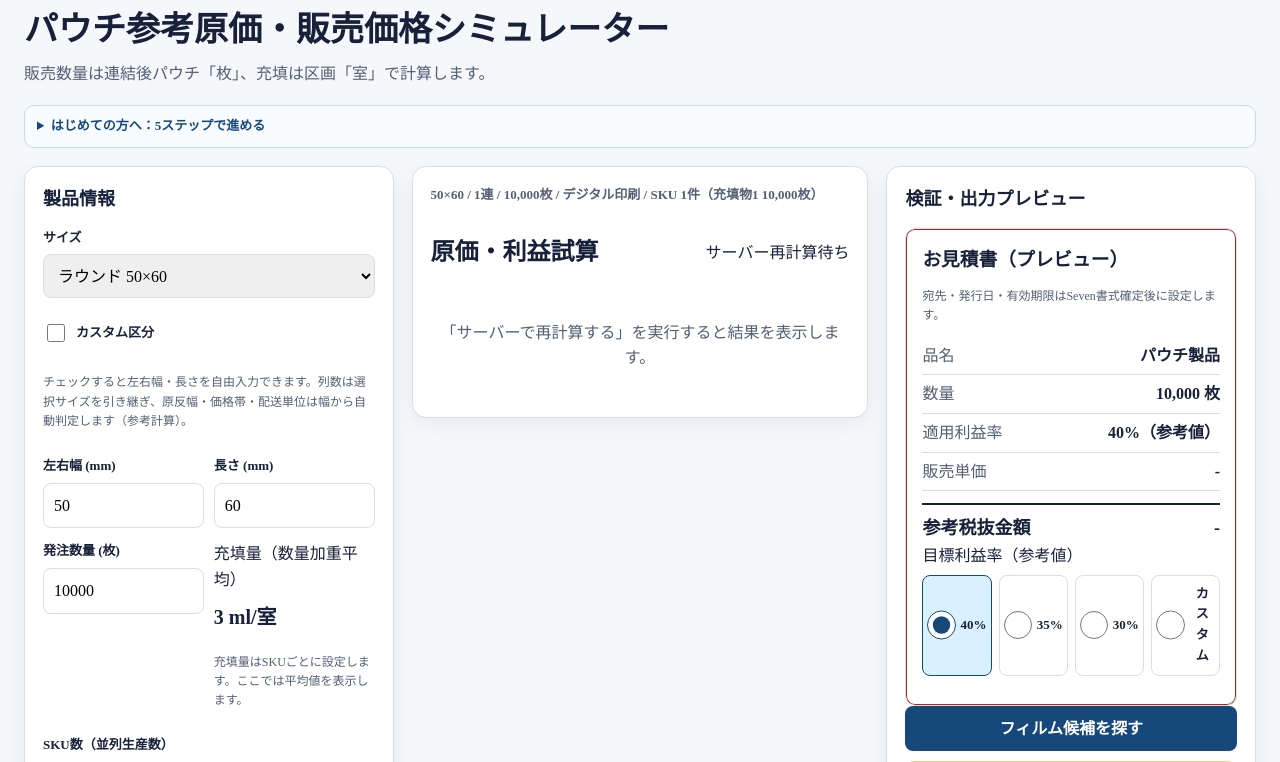
quotation UI › supports a custom target margin between the 40% and 50% defaults
Expected: the radio button named "利益率 40%" is checked, [927,603,956,647]
Click the radio button with aria-label "利益率 カスタム".
click(1170, 625)  # box [1156,603,1185,647]
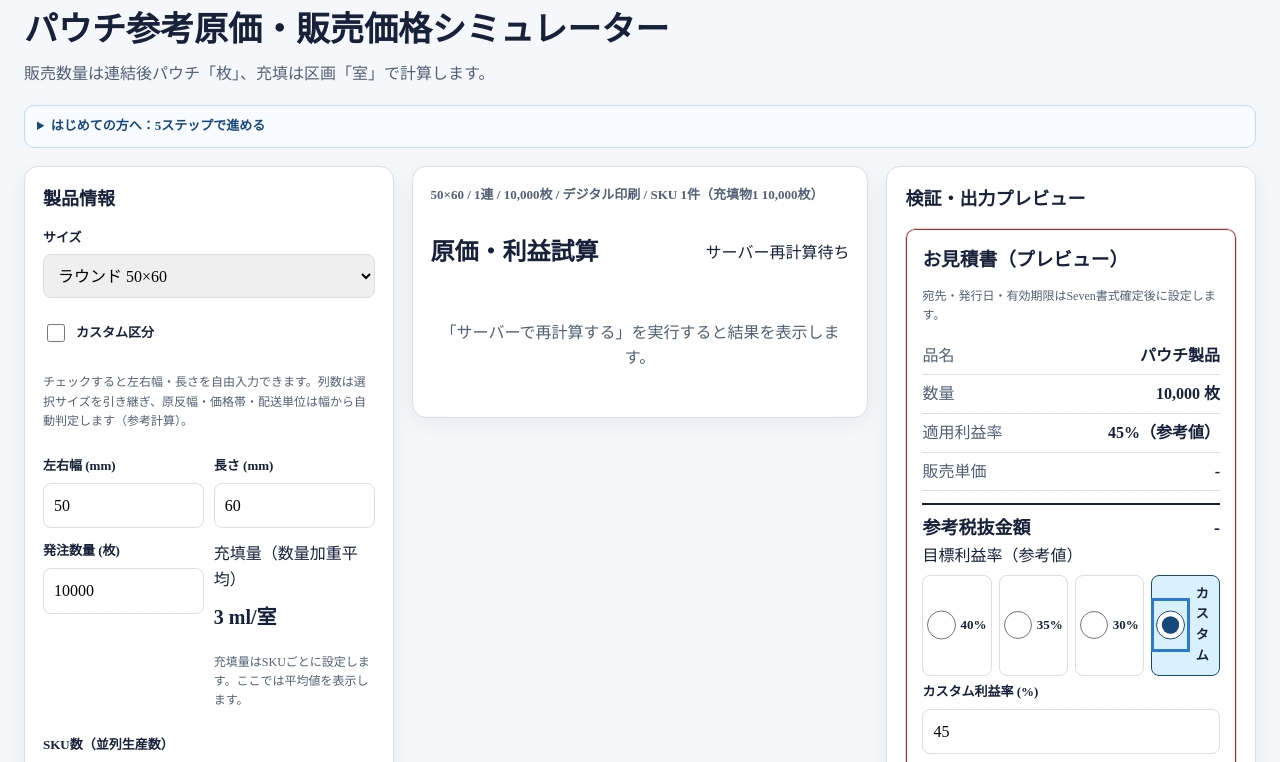
Now the field labelled "カスタム利益率 (%)" holds "45"
Replace the text in the field labelled "カスタム利益率 (%)" with "42" at (1071, 731), box [922,709,1220,754]
(page scrolled)
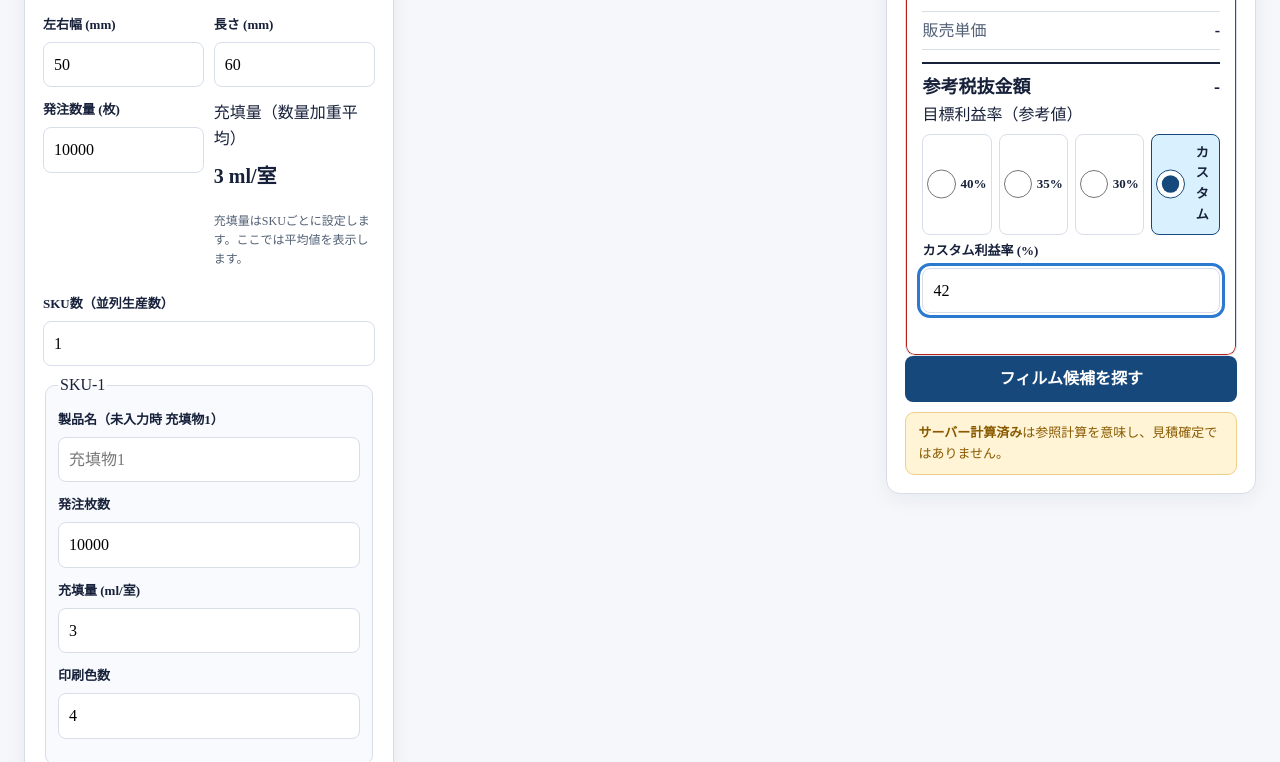
Now the button with test id "calculate-desktop" is enabled, box [905,356,1237,402]
